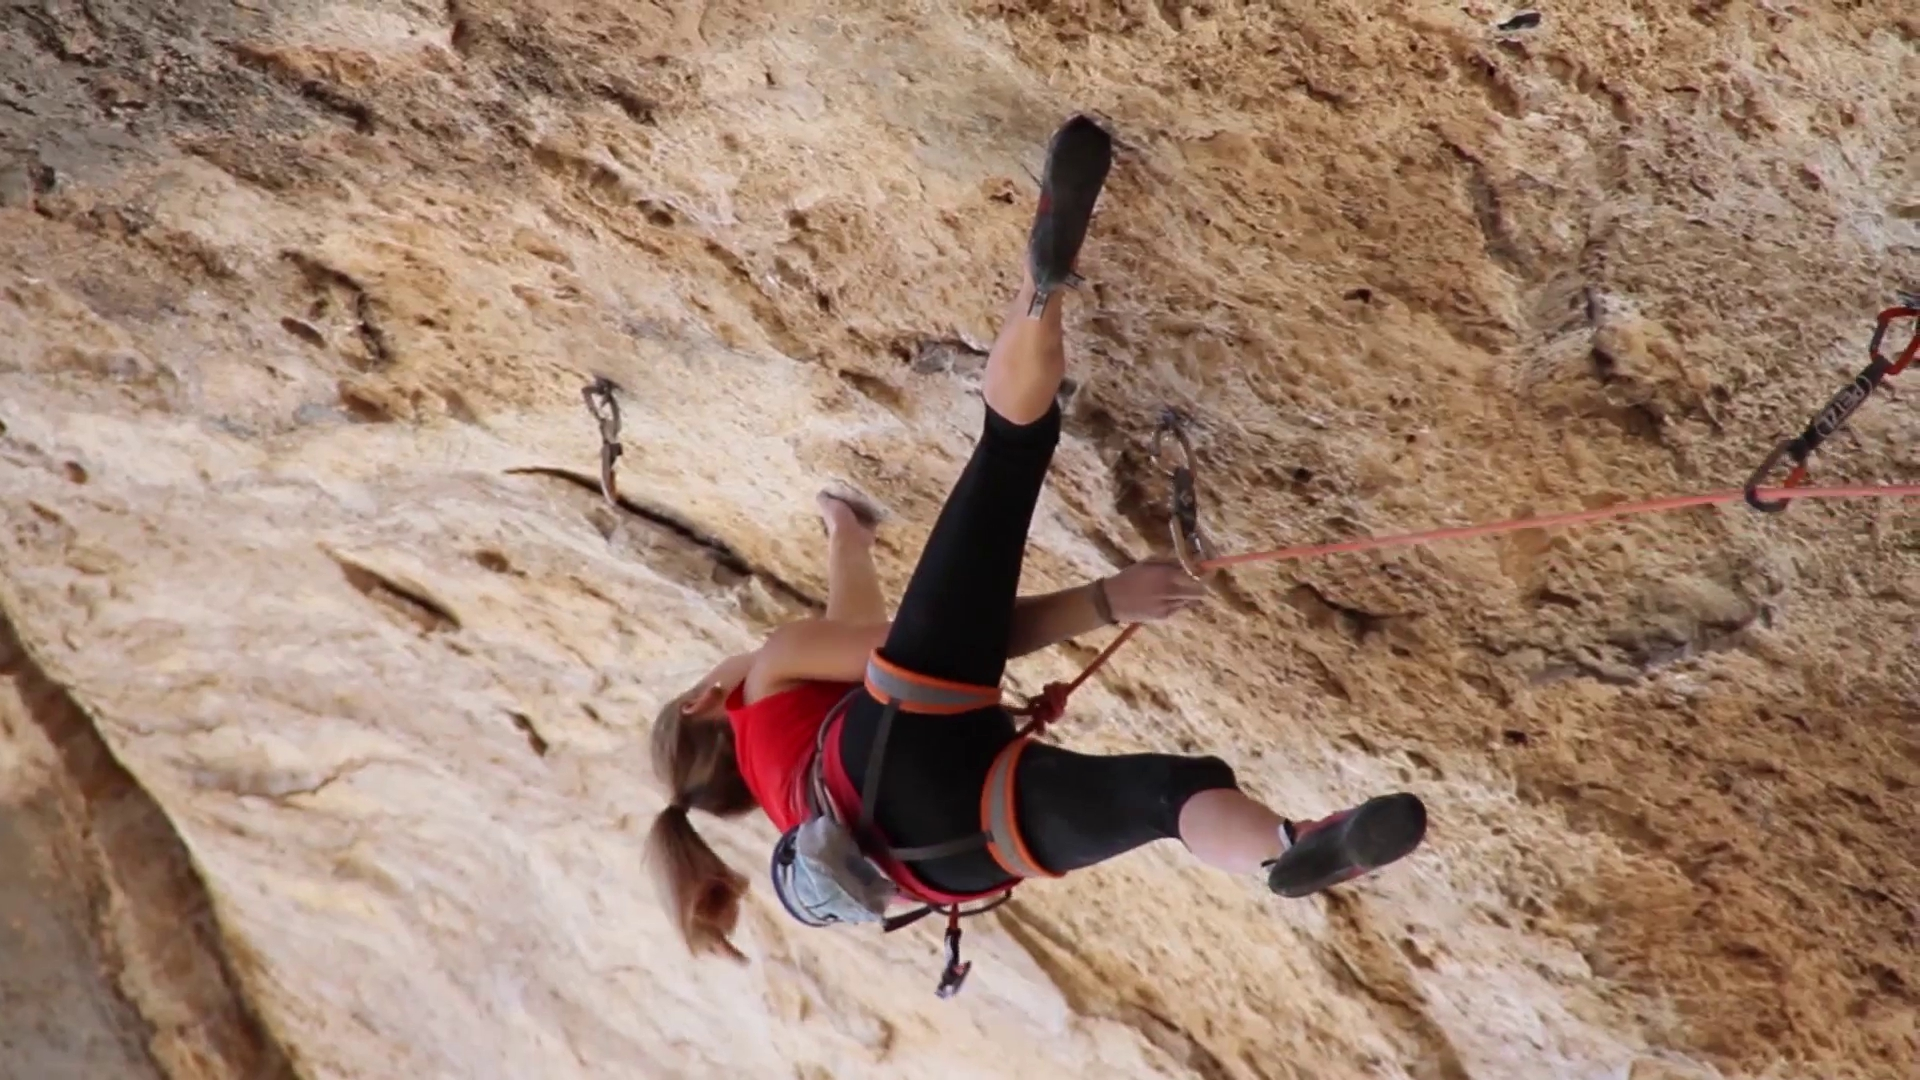person: (643, 116, 1428, 965)
